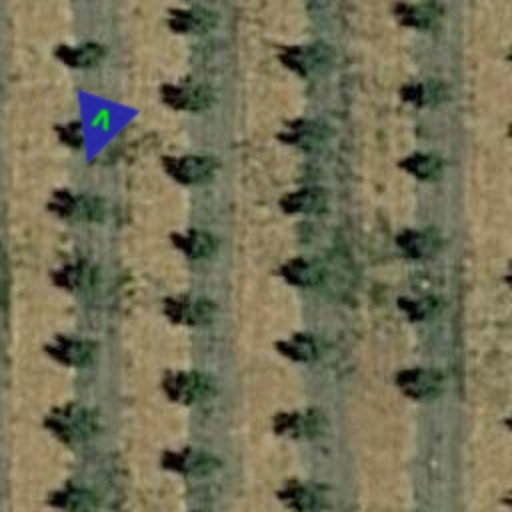triangle: (54, 88, 142, 176)
